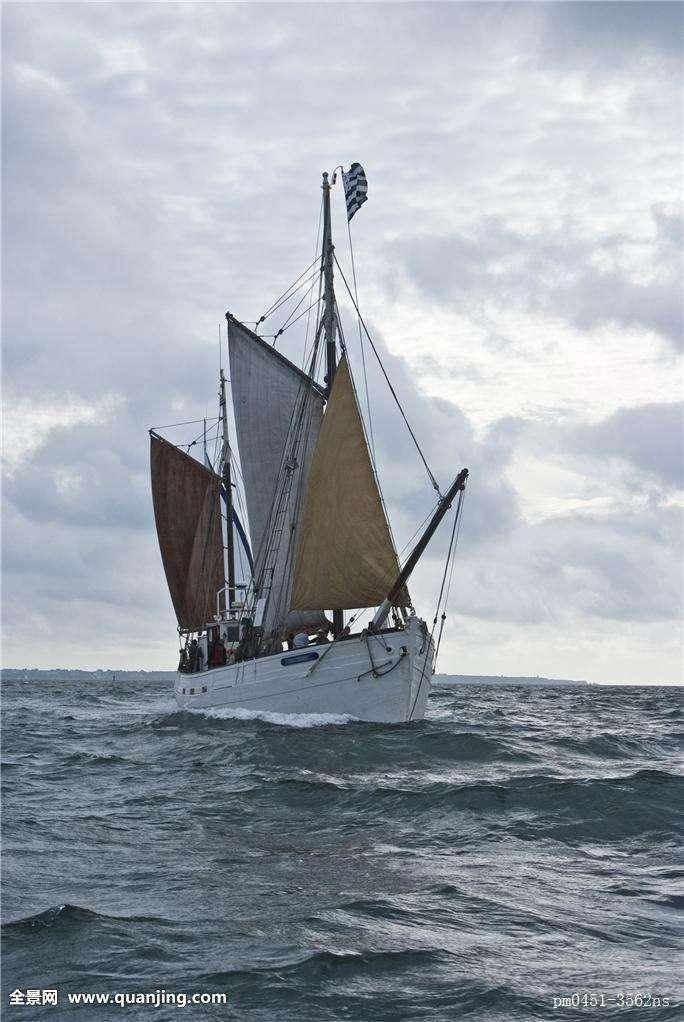fanchuan: (135, 158, 485, 723)
